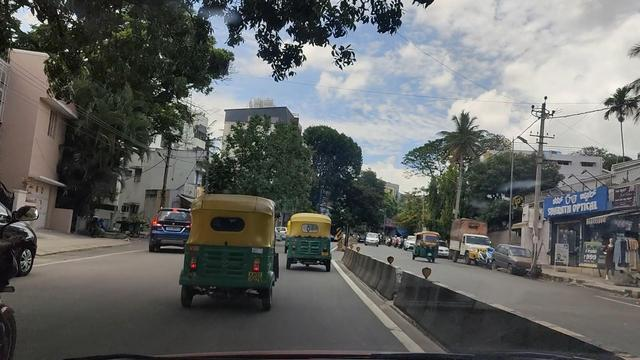LMV: (195, 196, 274, 309), (288, 211, 339, 279), (151, 208, 188, 247)
